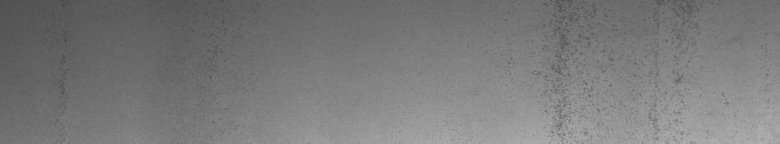ib: (532, 4, 692, 136)
